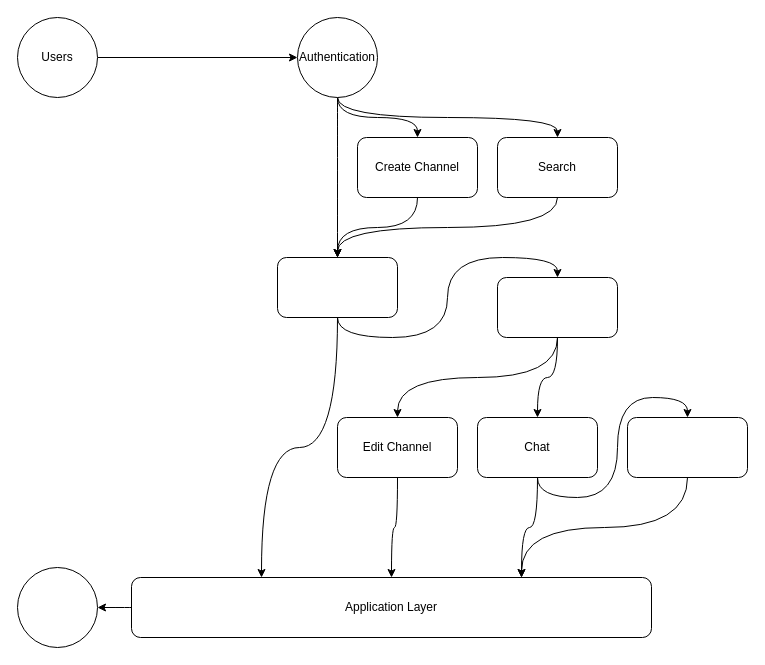
Some shapes in this 765 by 665 pixel diagram are drawn without their labels. Here are the shapes that lost their labels. From the top down, the centre of each, then its label:
point 337,287: Channel List
point 557,307: Channel
point 687,447: Thread
point 57,607: API Gateway
